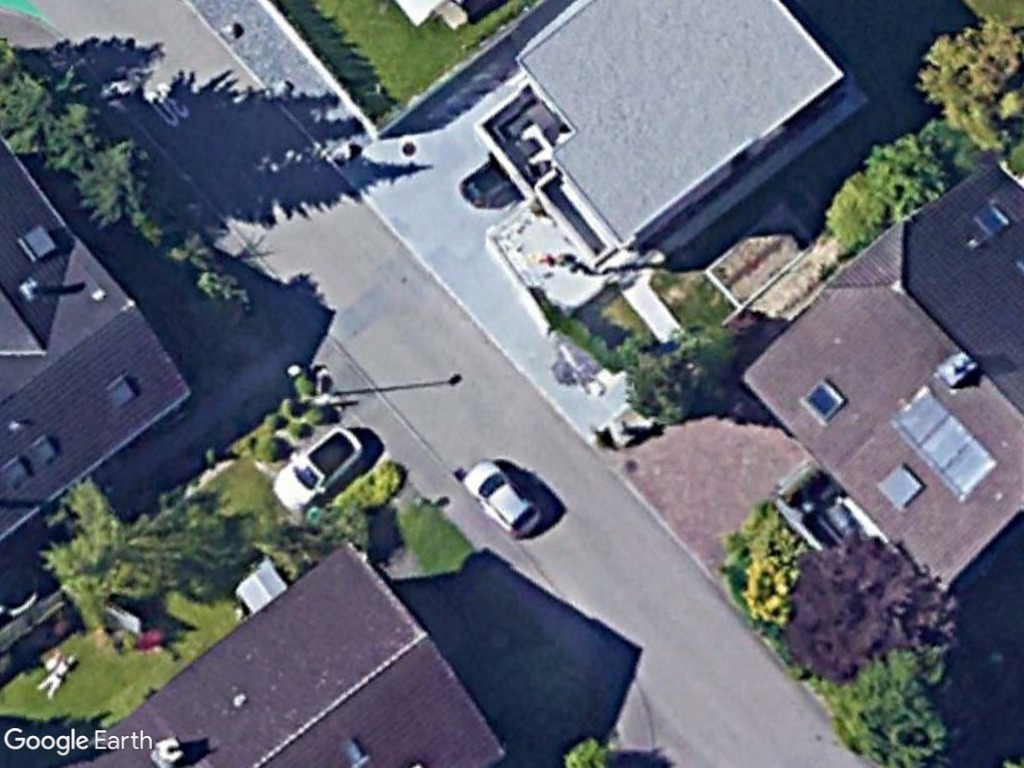car: (267, 422, 363, 516), (456, 457, 546, 543)
